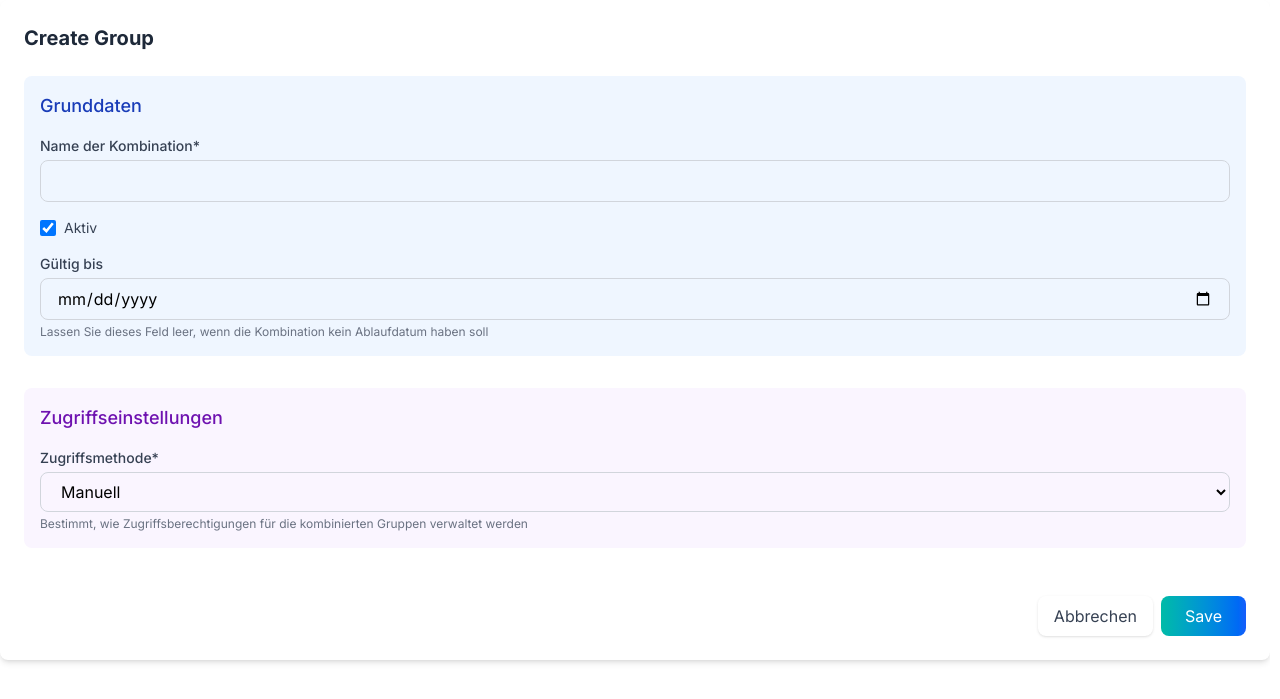
Test case: CombinedGroupForm › shows specific group field when access policy is specific
This screenshot has width=1280, height=699.
Select "Spezifische Gruppe" in the dropdown labelled "Zugriffsmethode*" at (635,492), box [40,472,1230,512]
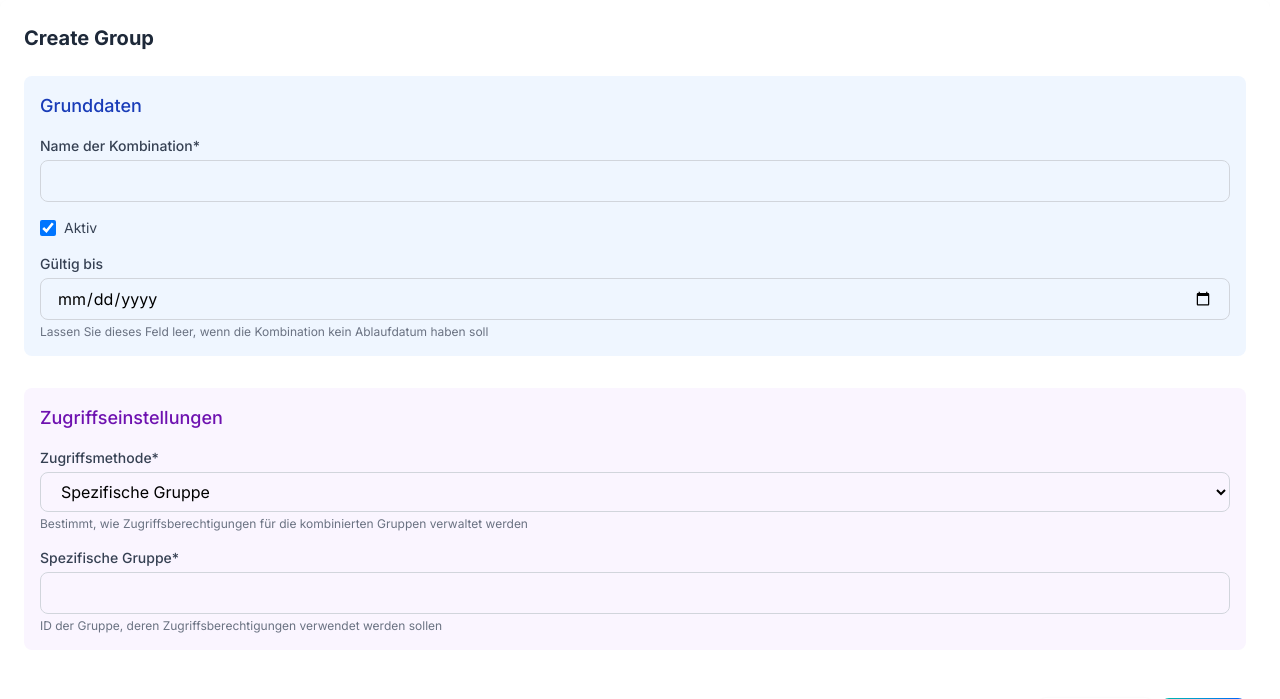
Expected: the field labelled "Spezifische Gruppe*" is shown, [40,572,1230,614]
